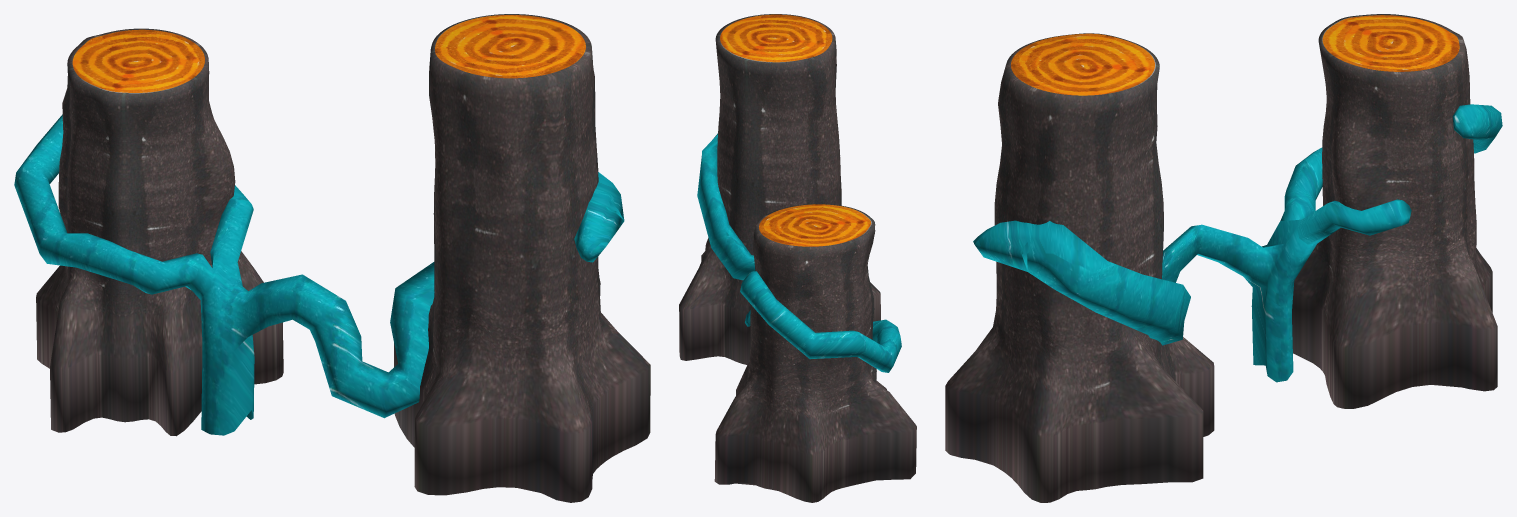
Rendered from arbres-double.fbx.
3 renders of one model, left to right at view 1: azimuth 30°, elevation 25°; view 2: azimuth 150°, elevation 25°; view 3: azimuth 270°, elevation 25°, orthographic. The views are drawn at different scales.
Parts seen in each view (by area): view 1: Cylinder; view 2: Cylinder; view 3: Cylinder.
Boxes of the visible parts, x1,y1,x2,y2 form: Cylinder: (14, 14, 650, 502); Cylinder: (679, 14, 916, 502); Cylinder: (945, 14, 1502, 502).
Size of the model in its own units: 628 by 567 by 719.
Materials: 3 (3 with a texture image).
